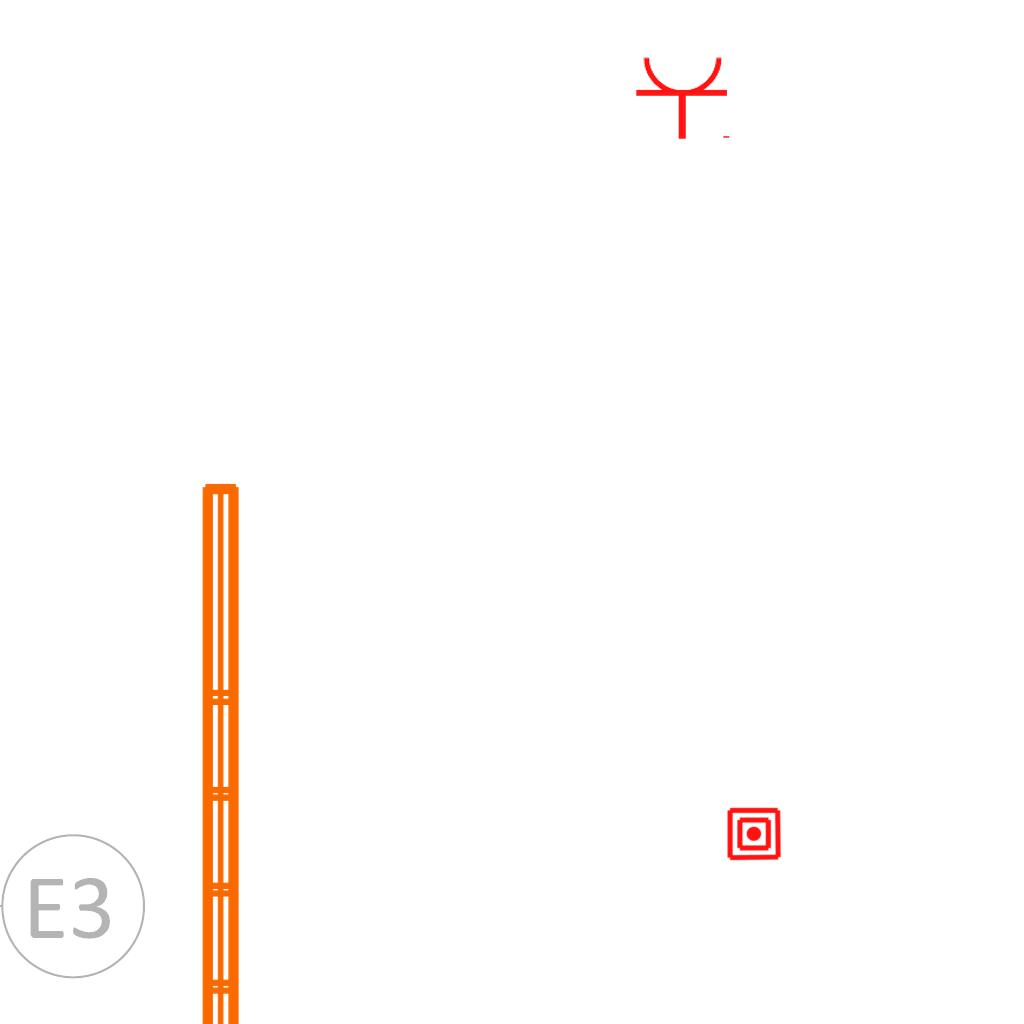Ambulanz_Pendelleuchte_LED: (190, 473, 302, 1024)
NAM-Nichtautomatischer_Melder: (726, 806, 782, 862)
Schukosteckdose_einfach: (634, 54, 734, 141)
